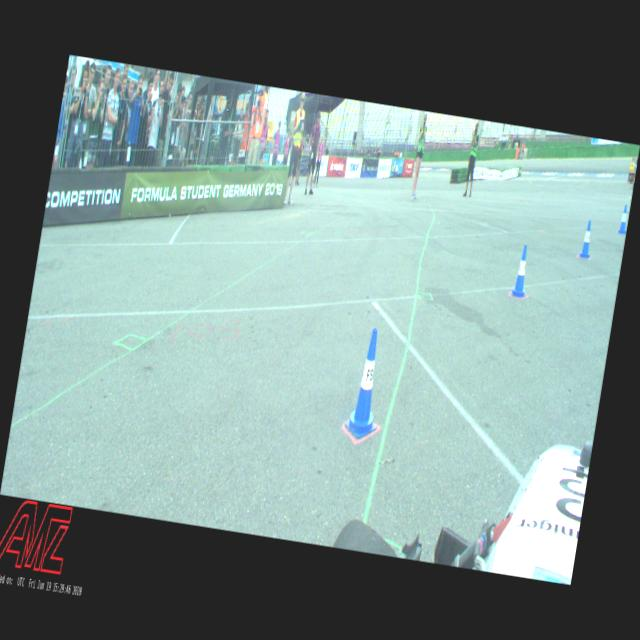blue_cone: (342, 326, 392, 440), (510, 244, 534, 298), (579, 220, 595, 259), (618, 204, 630, 234)
